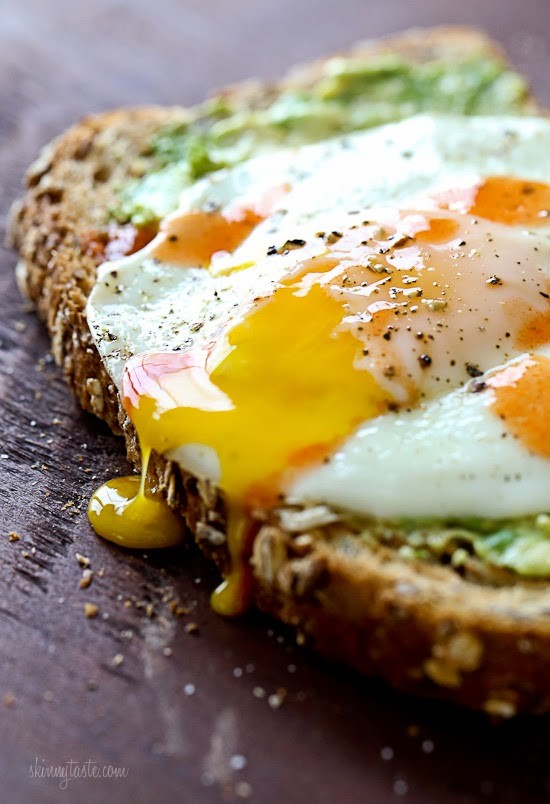fried egg: (140, 141, 550, 510)
slice of bread: (24, 42, 550, 716)
